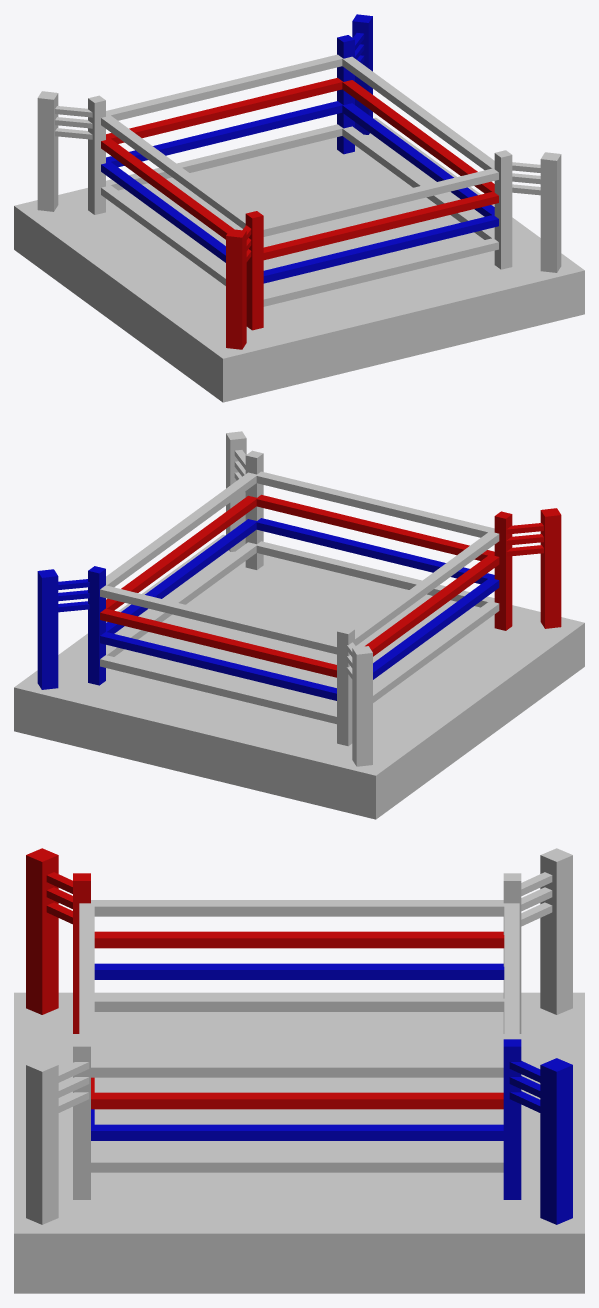
The model's file is boxgym.fbx.
3 renders of one model, top to bottom at view 1: azimuth 30°, elevation 25°; view 2: azimuth 150°, elevation 25°; view 3: azimuth 270°, elevation 25°, orthographic. The views are drawn at different scales.
Visible parts, largest first — view 1: Cube.029, Cube.028, Cube.020, Cube.031, Cube.030, Cube.026, Cube.025, Cube.027, Cube.022, Cube.023, Cube.024, Cube.021; view 2: Cube.029, Cube.028, Cube.020, Cube.031, Cube.030, Cube.026, Cube.025, Cube.027, Cube.022, Cube.023, Cube.024, Cube.021; view 3: Cube.029, Cube.028, Cube.022, Cube.027, Cube.024, Cube.023, Cube.020, Cube.021, Cube.031.
Boxes of the visible parts, x1,y1,x2,y2 form: Cube.029: (14,117,584,402); Cube.028: (37,14,561,349); Cube.020: (88,35,512,330); Cube.031: (106,54,498,236); Cube.030: (106,77,498,260); Cube.026: (106,101,498,283); Cube.025: (106,124,498,306); Cube.027: (101,56,497,228); Cube.022: (101,80,497,252); Cube.023: (101,103,497,275); Cube.024: (101,126,497,298); Cube.021: (55,33,540,261); Cube.029: (14,534,584,819); Cube.028: (37,431,561,766); Cube.020: (88,450,512,746); Cube.031: (100,471,494,654); Cube.030: (100,494,494,677); Cube.026: (100,518,494,700); Cube.025: (100,541,494,724); Cube.027: (106,472,499,645); Cube.022: (106,495,499,656); Cube.023: (106,518,499,679); Cube.024: (106,541,499,702); Cube.021: (58,450,543,678); Cube.029: (14,992,584,1293); Cube.028: (26,848,572,1224); Cube.022: (91,931,504,1109); Cube.027: (81,900,504,1077); Cube.024: (91,995,504,1172); Cube.023: (91,963,504,1140); Cube.020: (73,873,521,1199); Cube.021: (46,872,552,1112); Cube.031: (79,903,519,1060).
Bounding box in the file's own units: 15.83 × 6.52 × 15.83.
